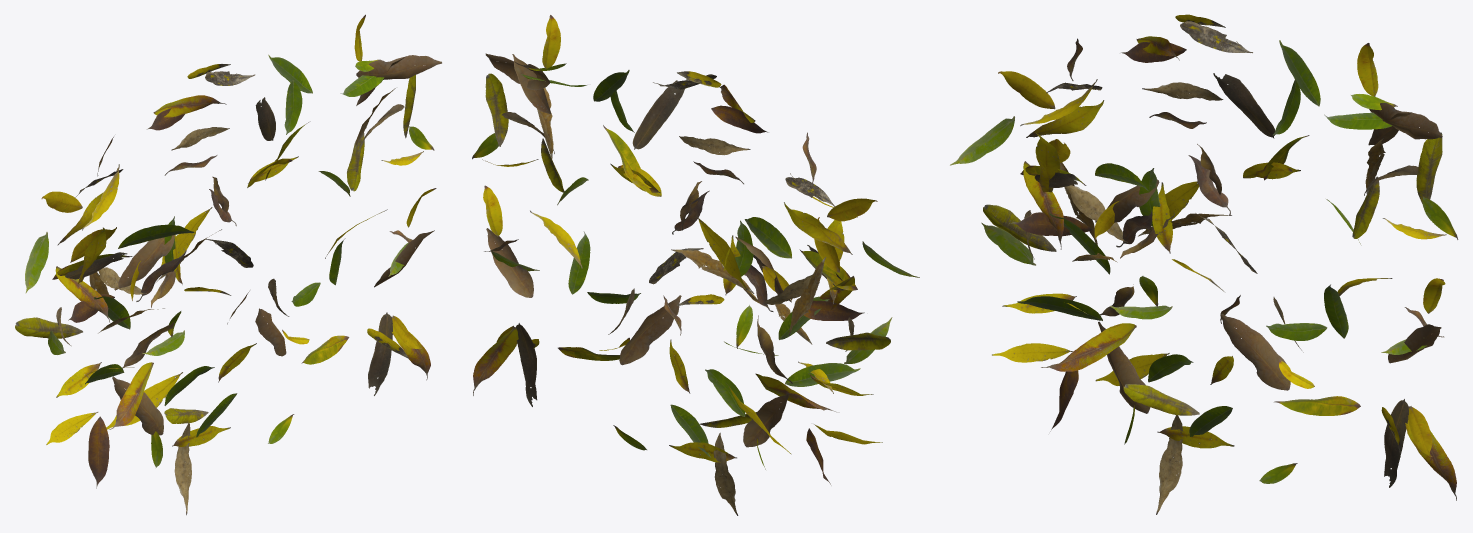
The model's file is Leaf_Pile_03_Var2_LOD0.fbx.
The picture shows the model from 3 angles, left to right: view 1: azimuth 30°, elevation 25°; view 2: azimuth 150°, elevation 25°; view 3: azimuth 330°, elevation 25°; orthographic projection. The views are drawn at different scales.
Parts seen in each view (by area): view 1: Var2_LOD0; view 2: Var2_LOD0; view 3: Var2_LOD0.
Part boxes in pixels (x1,y1,x2,y2): Var2_LOD0: [15, 14, 441, 515]; Var2_LOD0: [472, 15, 919, 515]; Var2_LOD0: [950, 14, 1458, 514].
Bounding box in the file's own units: 63.96 × 65.49 × 7.74.
